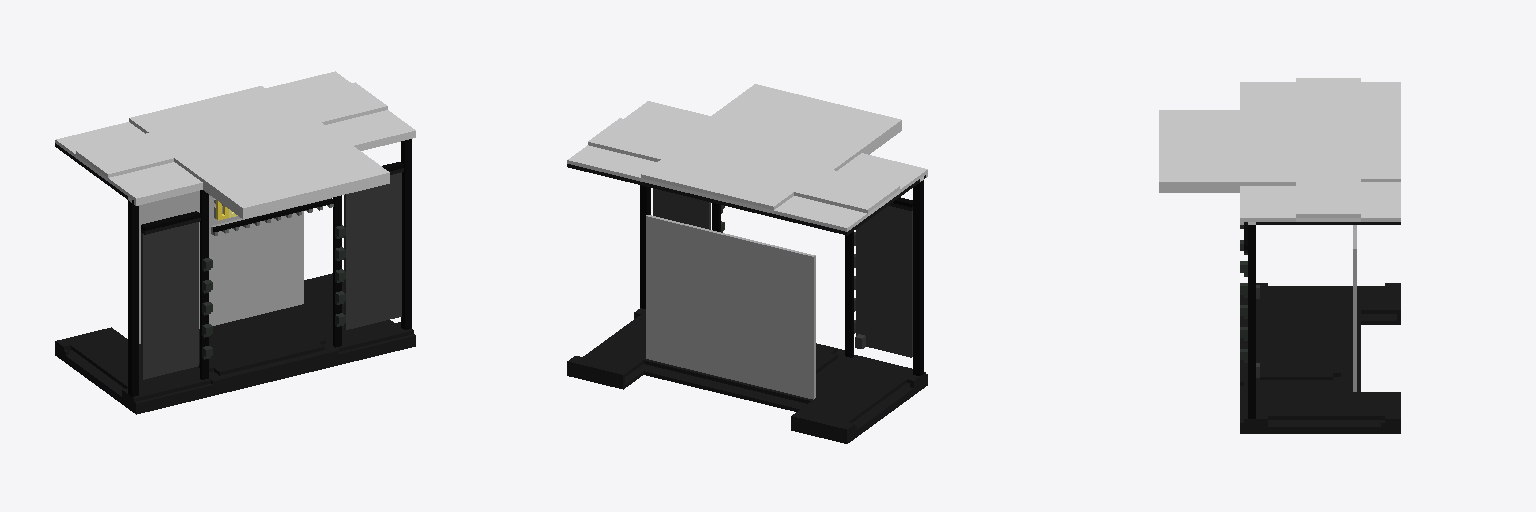
The picture shows the model from 3 angles: view 1: azimuth 30°, elevation 25°; view 2: azimuth 150°, elevation 25°; view 3: azimuth 270°, elevation 25°; orthographic projection.
Bounding box in the file's own units: 80 × 60 × 60.
1 materials, 1 textured.